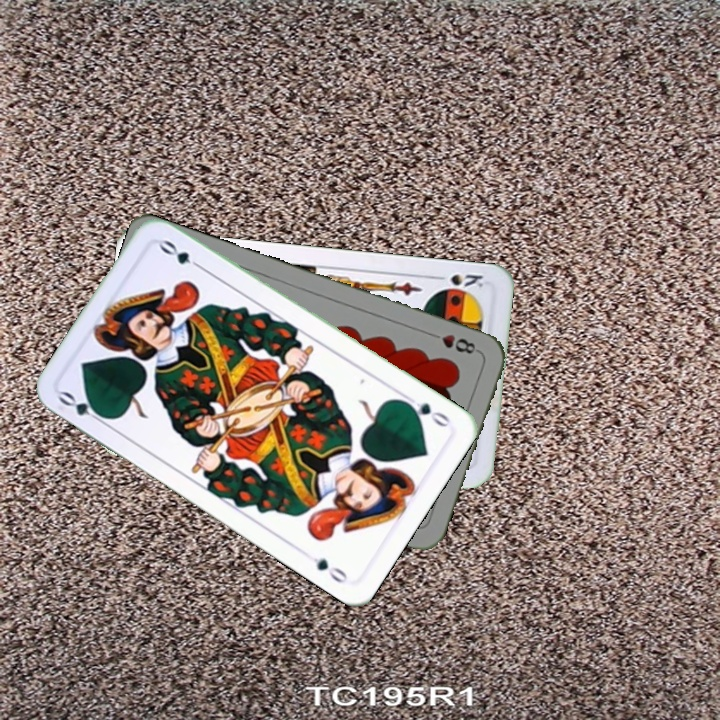GO: (54, 387, 111, 428), (398, 390, 453, 430)
H8: (425, 328, 482, 357)
SK: (429, 270, 486, 290)
